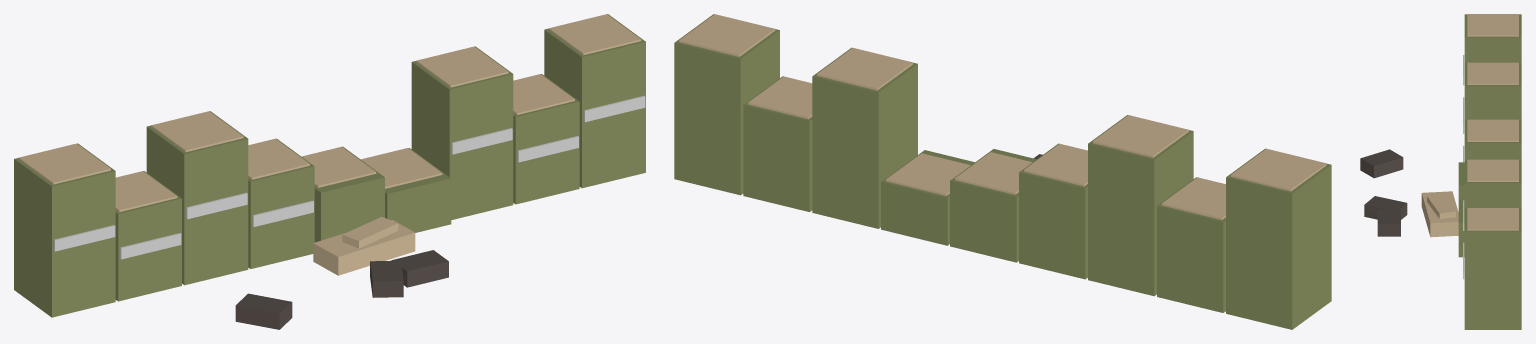
File: SM_MuroHesco_v2_Escalonado_e1_Danado_LOD1.fbx
The picture shows the model from 3 angles, left to right: view 1: azimuth 30°, elevation 25°; view 2: azimuth 150°, elevation 25°; view 3: azimuth 270°, elevation 25°; orthographic projection. The views are drawn at different scales.
Parts seen in each view (by area): view 1: SM_bloques.muro_hesco_estados_v9_LOD1; view 2: SM_bloques.muro_hesco_estados_v9_LOD1; view 3: SM_bloques.muro_hesco_estados_v9_LOD1.
Boxes of the visible parts, x1,y1,x2,y2 form: SM_bloques.muro_hesco_estados_v9_LOD1: [14, 14, 645, 329]; SM_bloques.muro_hesco_estados_v9_LOD1: [674, 14, 1331, 329]; SM_bloques.muro_hesco_estados_v9_LOD1: [1360, 14, 1521, 329].
Bounding box in the file's own units: 9.96 × 2.13 × 3.12.
